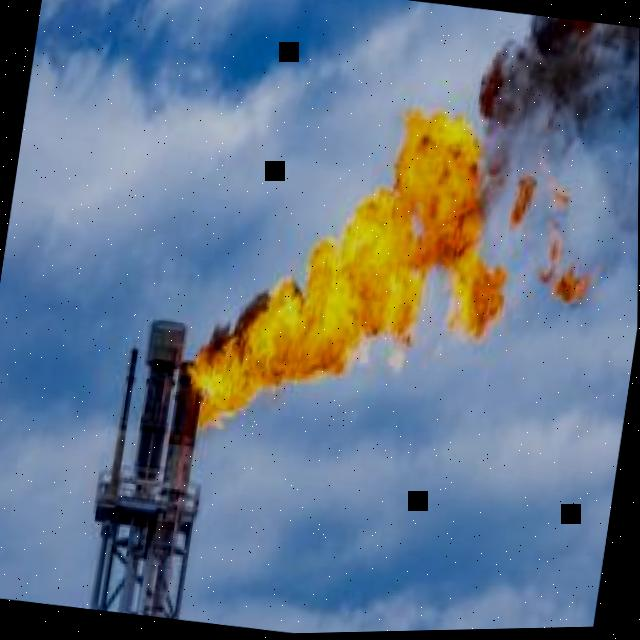fire: (188, 108, 509, 429)
smoke: (478, 17, 640, 332)
